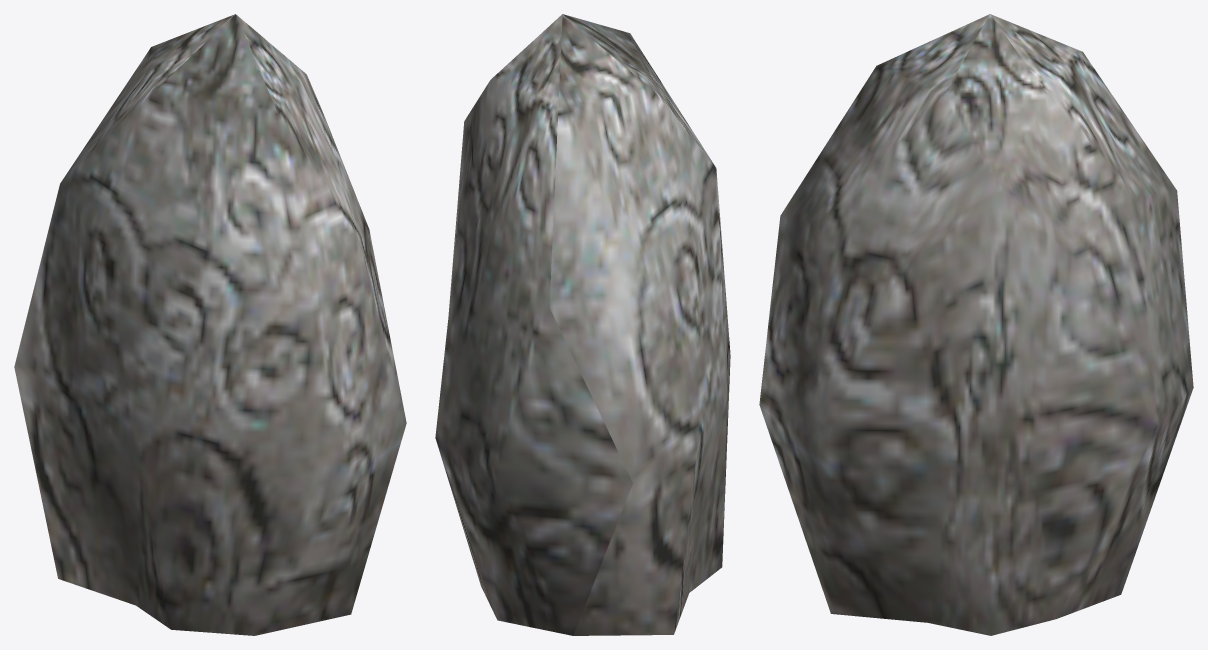
The model's file is standingstone_e.dae.
The picture shows the model from 3 angles, left to right: view 1: azimuth 30°, elevation 25°; view 2: azimuth 150°, elevation 25°; view 3: azimuth 270°, elevation 25°; orthographic projection. The views are drawn at different scales.
Visible parts, largest first — view 1: Object033; view 2: Object033; view 3: Object033.
Boxes of the visible parts, x1=… form: Object033: x1=14, y1=14, x2=406, y2=635; Object033: x1=435, y1=14, x2=730, y2=635; Object033: x1=759, y1=14, x2=1193, y2=635.
Bounding box in the file's own units: 1.5 × 3.22 × 2.18.
